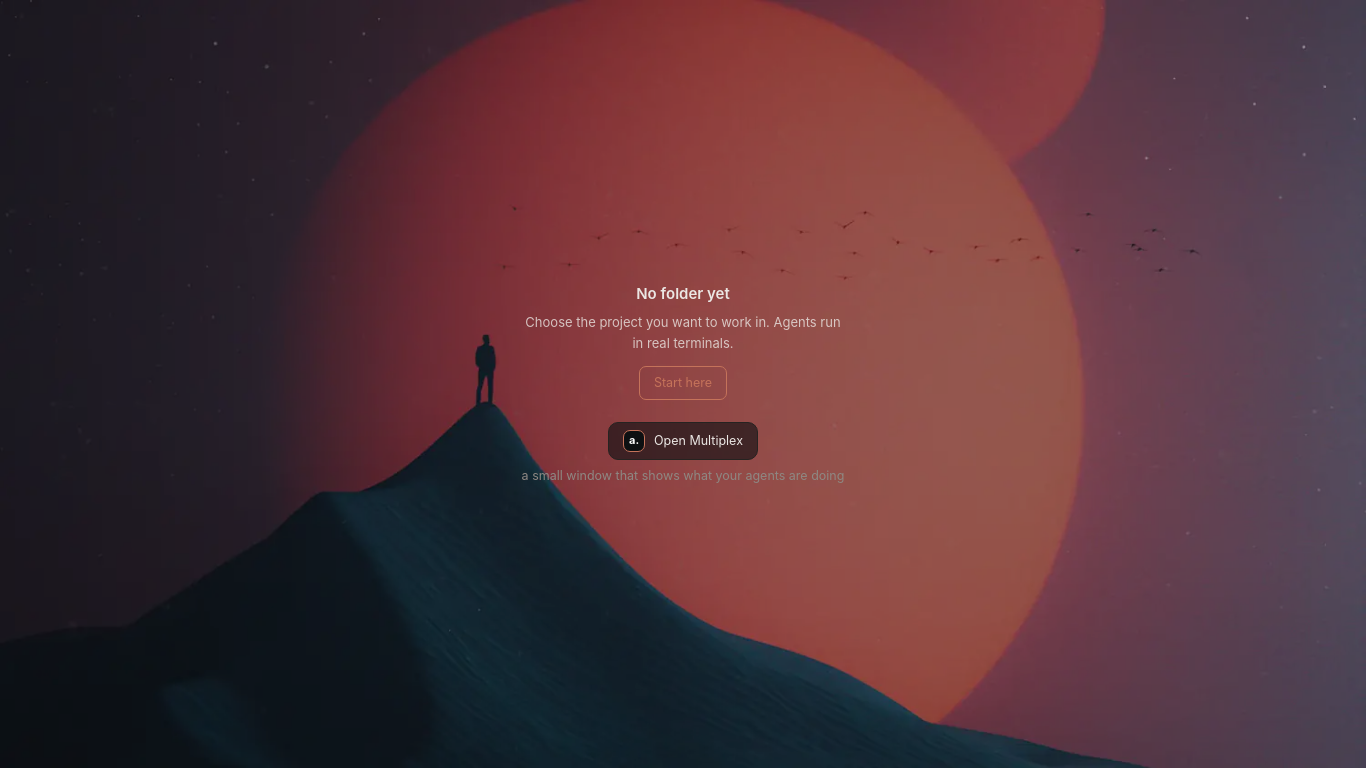
choosing a folder › on Linux antiloki's own folder window opens at once (the system dialogs differ and start in a random folder); nothing is asked of the serve's dialog
The image size is (1366, 768).
Step 1. Click the button with test id "gate-choose" → {"x": 683, "y": 383}, box x1=639 y1=366 x2=727 y2=400
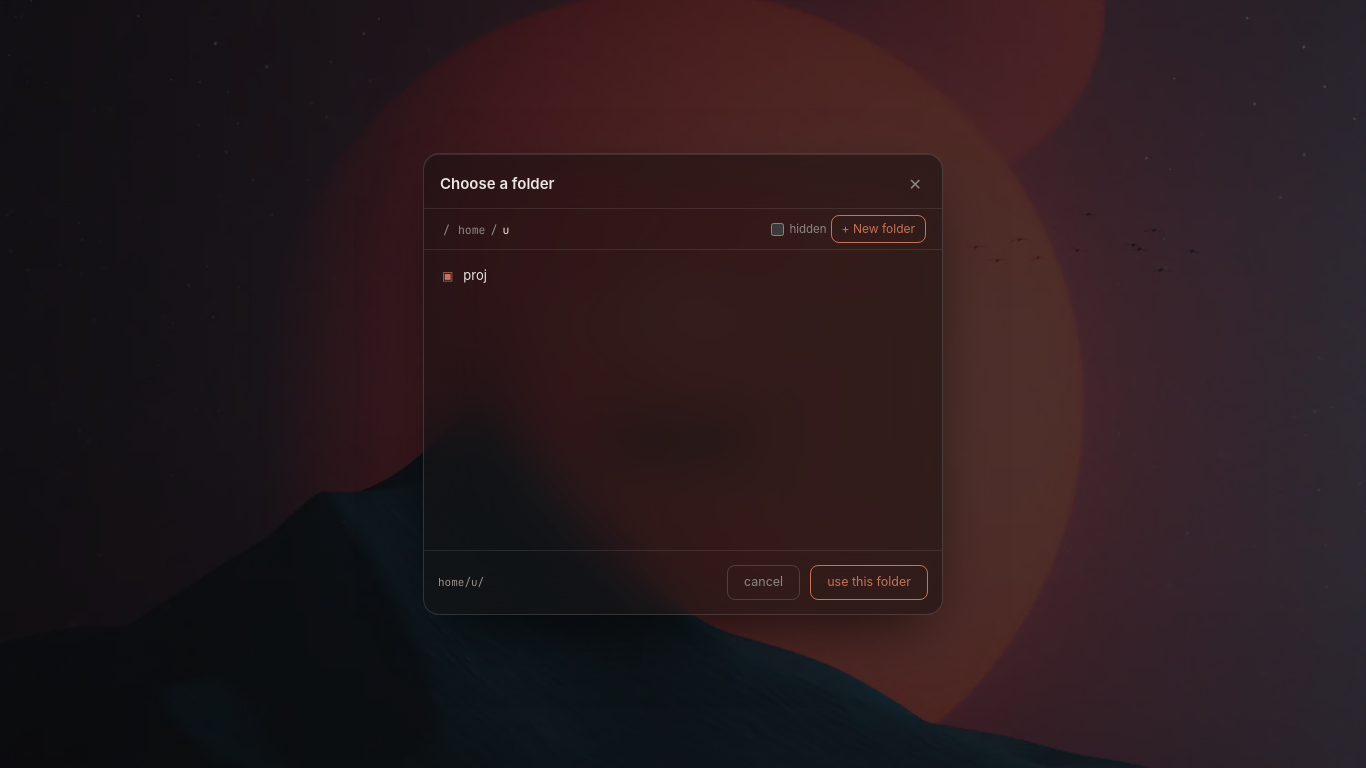
Result: the dialog with test id "folder-browser" is shown at x1=423 y1=153 x2=943 y2=615
